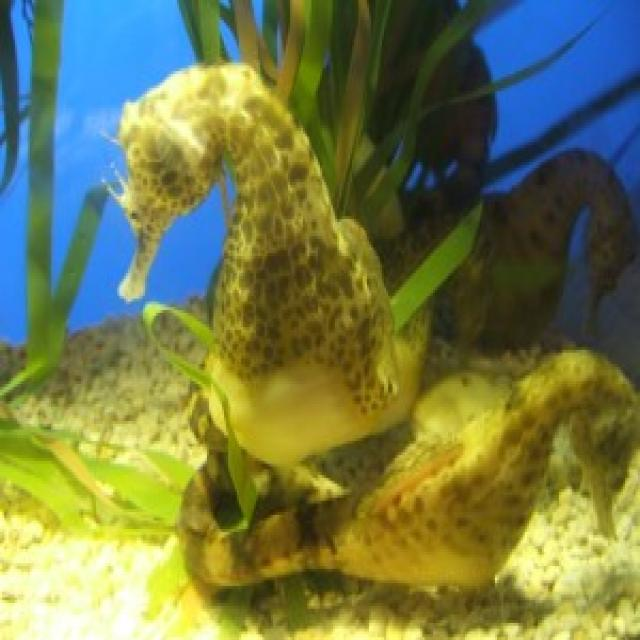Seahorse: (93, 49, 407, 430), (180, 342, 640, 596), (449, 145, 639, 332)
